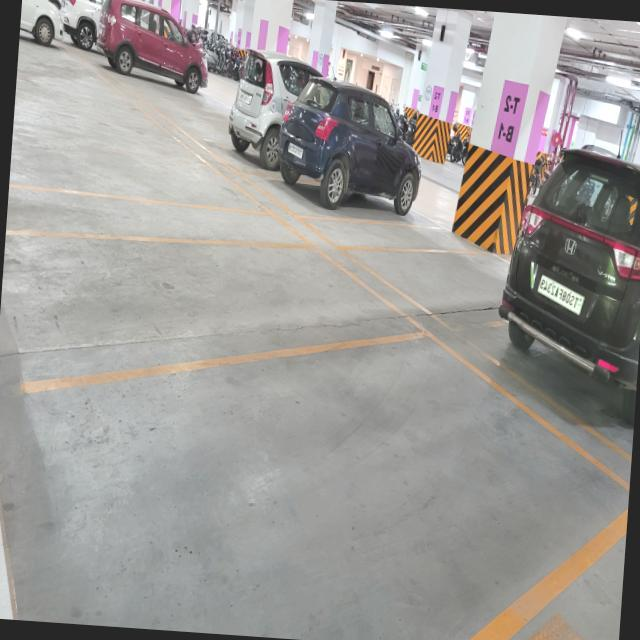car: (495, 177, 640, 408), (268, 142, 420, 213), (224, 77, 298, 158), (111, 22, 197, 82)
free: (198, 360, 596, 640), (0, 198, 384, 412), (7, 146, 255, 232), (342, 214, 516, 332), (130, 74, 236, 149)
